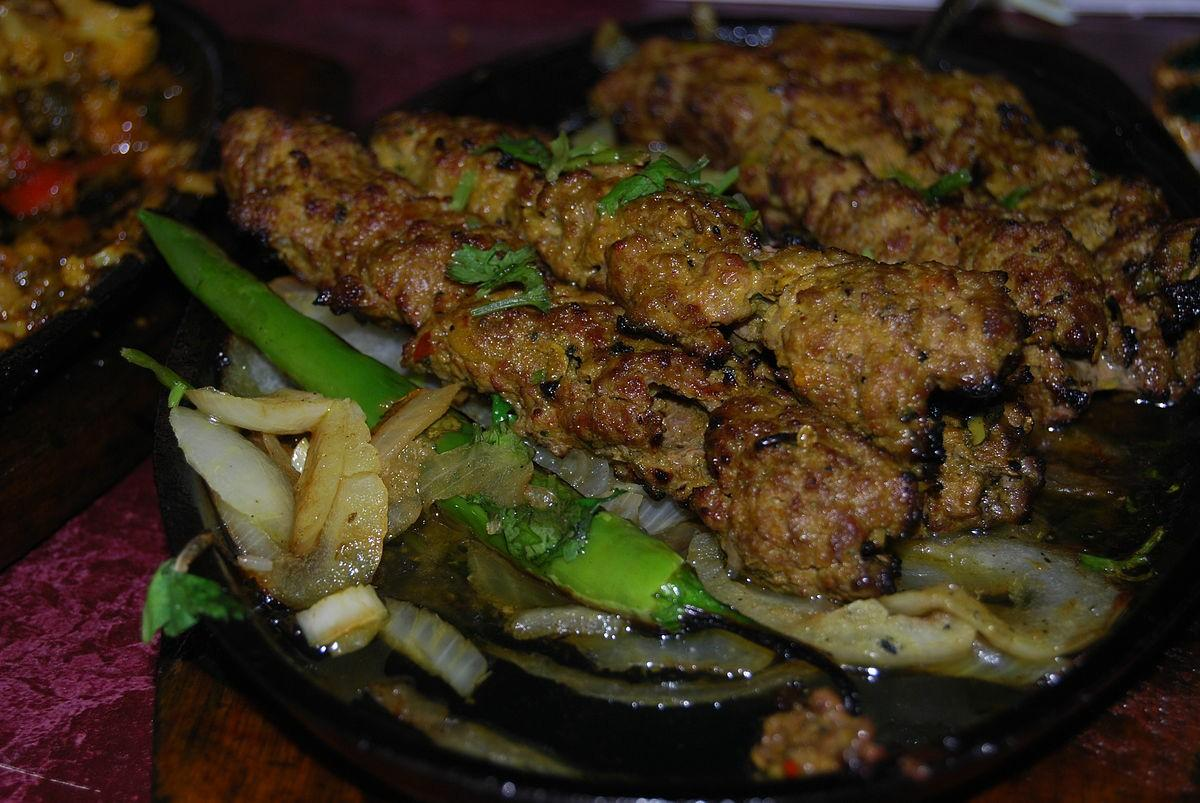Kebab: (216, 102, 912, 599), (373, 86, 988, 468), (611, 26, 1140, 424), (771, 14, 1200, 320)
